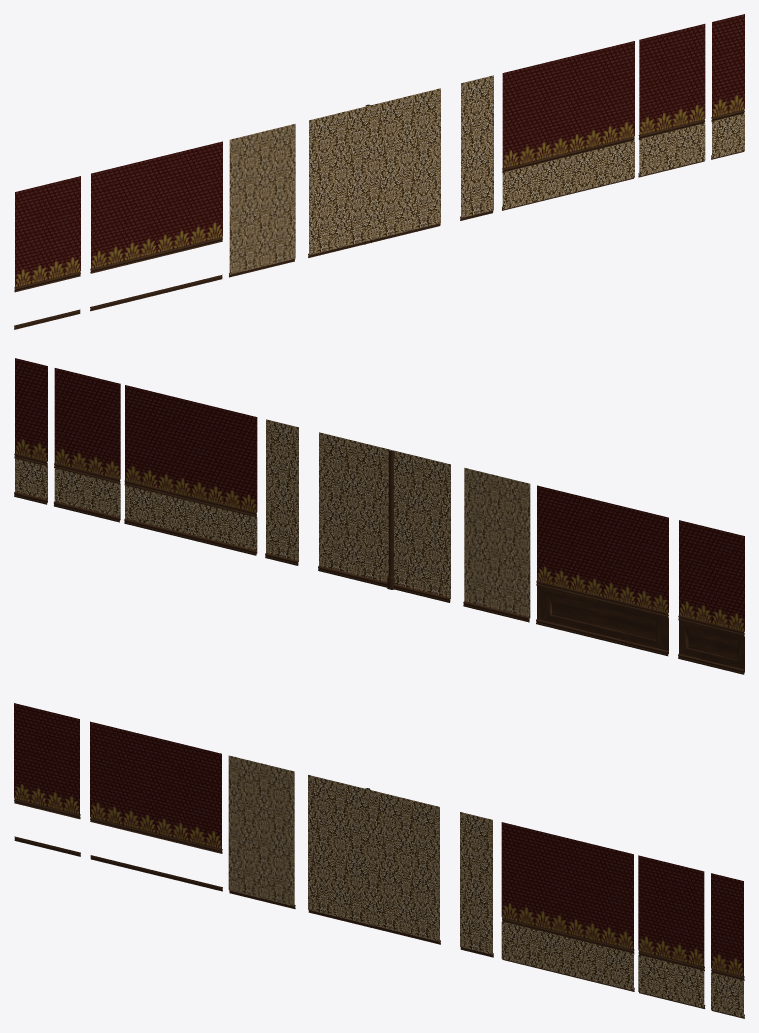
File: walls_various_v002.fbx
The picture shows the model from 3 angles, top to bottom: view 1: azimuth 30°, elevation 25°; view 2: azimuth 150°, elevation 25°; view 3: azimuth 330°, elevation 25°; orthographic projection.
Visible parts, largest first — view 1: wall_doubleWallpaper_4m, wall_solidWallpaper_4m, wall_halfWood_4m, wall_doubleWallpaper_2m, wall_solidWallpaper_2m, wall_halfWood_2m, wall_doubleWallpaper_1m, wall_solidWallpaper_1m; view 2: wall_doubleWallpaper_4m, wall_halfWood_4m, wall_solidWallpaper_4m, wall_solidWallpaper_2m, wall_doubleWallpaper_2m, wall_halfWood_2m, wall_doubleWallpaper_1m, wall_solidWallpaper_1m, wallColumn; view 3: wall_doubleWallpaper_4m, wall_solidWallpaper_4m, wall_halfWood_4m, wall_solidWallpaper_2m, wall_doubleWallpaper_2m, wall_halfWood_2m, wall_doubleWallpaper_1m, wall_solidWallpaper_1m.
Boxes of the visible parts, <box> form: wall_doubleWallpaper_4m: <box>502,41,634,210</box>; wall_solidWallpaper_4m: <box>308,88,440,257</box>; wall_halfWood_4m: <box>90,141,222,311</box>; wall_doubleWallpaper_2m: <box>638,24,705,177</box>; wall_solidWallpaper_2m: <box>229,123,295,277</box>; wall_halfWood_2m: <box>14,176,80,329</box>; wall_doubleWallpaper_1m: <box>711,14,744,159</box>; wall_solidWallpaper_1m: <box>460,75,493,220</box>; wall_doubleWallpaper_4m: <box>124,385,257,555</box>; wall_halfWood_4m: <box>536,485,668,656</box>; wall_solidWallpaper_4m: <box>318,432,450,602</box>; wall_solidWallpaper_2m: <box>463,467,530,622</box>; wall_doubleWallpaper_2m: <box>53,368,120,522</box>; wall_halfWood_2m: <box>678,520,744,674</box>; wall_doubleWallpaper_1m: <box>14,358,47,504</box>; wall_solidWallpaper_1m: <box>265,419,298,565</box>; wallColumn: <box>387,450,394,589</box>; wall_doubleWallpaper_4m: <box>501,822,634,991</box>; wall_solidWallpaper_4m: <box>308,775,440,944</box>; wall_halfWood_4m: <box>90,721,222,891</box>; wall_solidWallpaper_2m: <box>228,755,295,908</box>; wall_doubleWallpaper_2m: <box>638,855,705,1008</box>; wall_halfWood_2m: <box>14,703,80,856</box>; wall_doubleWallpaper_1m: <box>711,873,744,1018</box>; wall_solidWallpaper_1m: <box>460,812,493,957</box>.
Bounding box in the file's own units: 2210 × 400 × 14.01.
